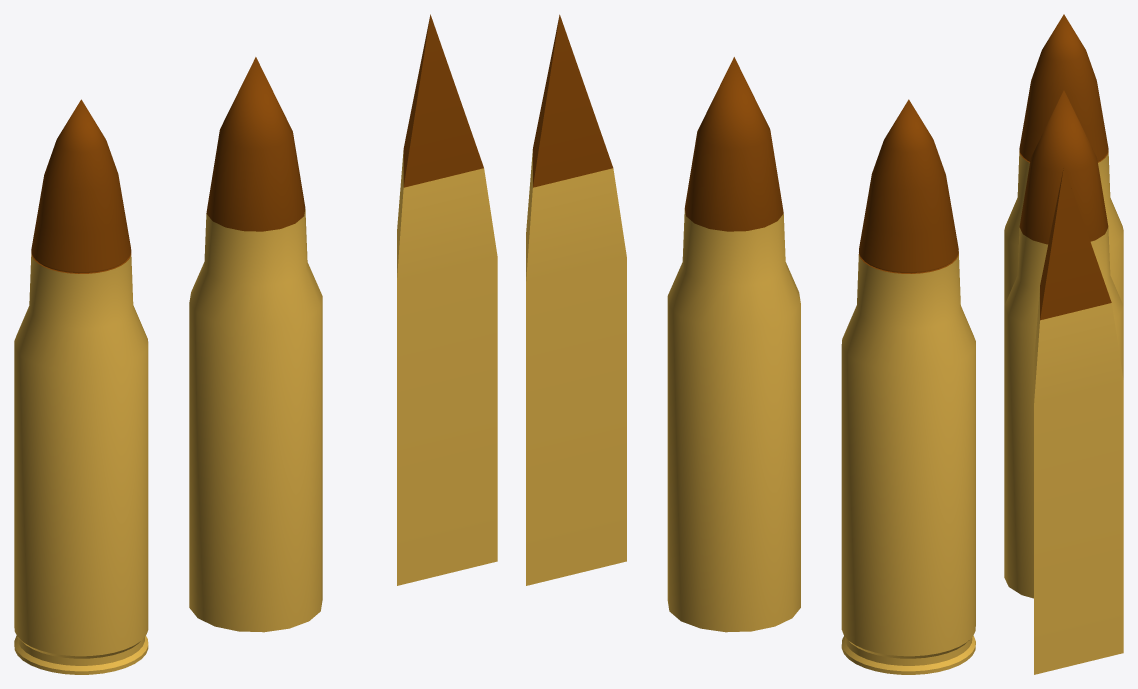
The model's file is Bullet.fbx.
The picture shows the model from 3 angles, left to right: view 1: azimuth 30°, elevation 25°; view 2: azimuth 150°, elevation 25°; view 3: azimuth 270°, elevation 25°; orthographic projection. The views are drawn at different scales.
Visible parts, largest first — view 1: BulletQ1, BulletQ2, BulletQ3; view 2: BulletQ1, BulletQ2, BulletQ3; view 3: BulletQ3, BulletQ2, BulletQ1.
Boxes of the visible parts, <box> form: BulletQ1: <box>14,99,148,674</box>; BulletQ2: <box>189,57,322,632</box>; BulletQ3: <box>397,14,497,585</box>; BulletQ1: <box>841,99,975,674</box>; BulletQ2: <box>667,57,800,632</box>; BulletQ3: <box>526,14,626,585</box>; BulletQ3: <box>1034,166,1123,674</box>; BulletQ2: <box>1004,90,1123,598</box>; BulletQ1: <box>1004,14,1123,304</box>.
Size of the model in its own units: 7.87 by 8.99 by 2.
